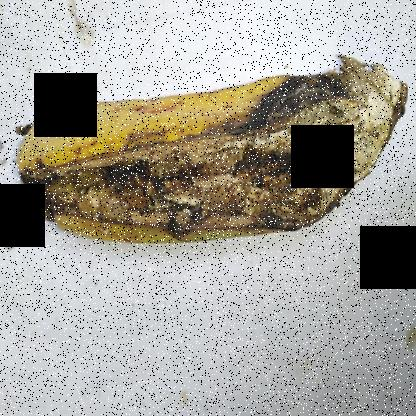rotten: (242, 54, 415, 263), (26, 125, 268, 263)
